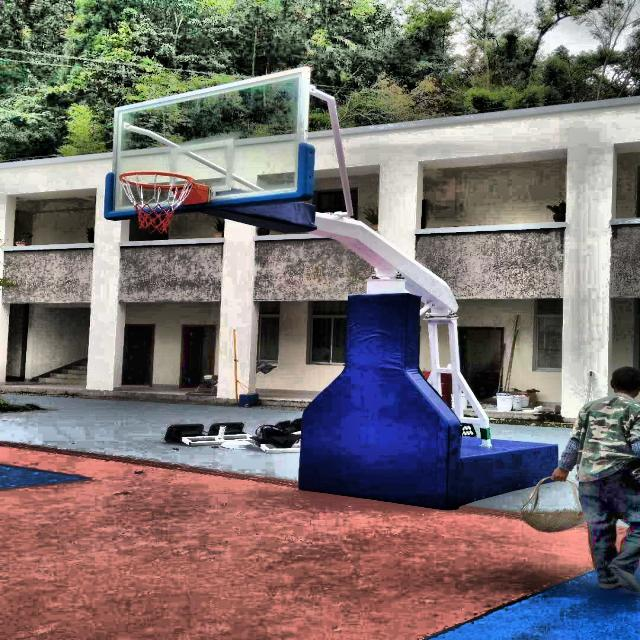rim: (119, 171, 193, 232)
